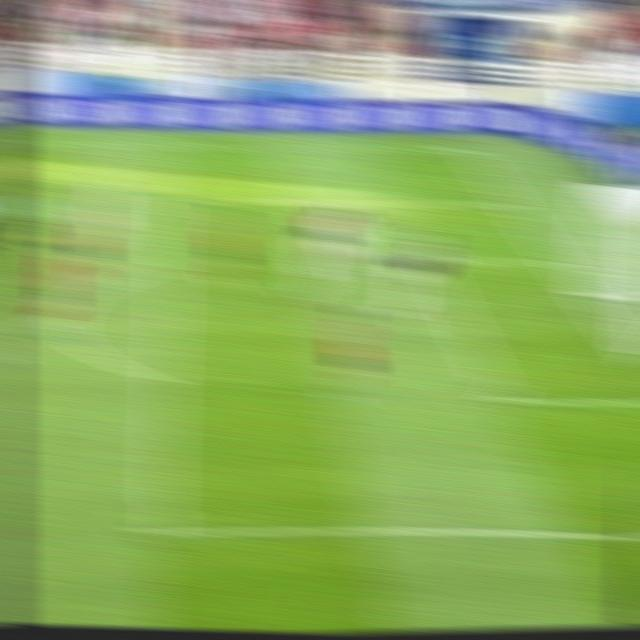bigarea_bottom_inner: (138, 505, 187, 549)
bigarea_top_inner: (156, 191, 185, 207)
bigarea_top_outter: (497, 196, 526, 210)
corner: (452, 139, 485, 157), (454, 145, 482, 155)
halfcircle_top: (150, 258, 185, 279)
smallarea_bottom_inner: (481, 380, 521, 417)
smallarea_top_outter: (538, 250, 573, 271)
top_arc_area_intersection: (150, 256, 185, 279)
